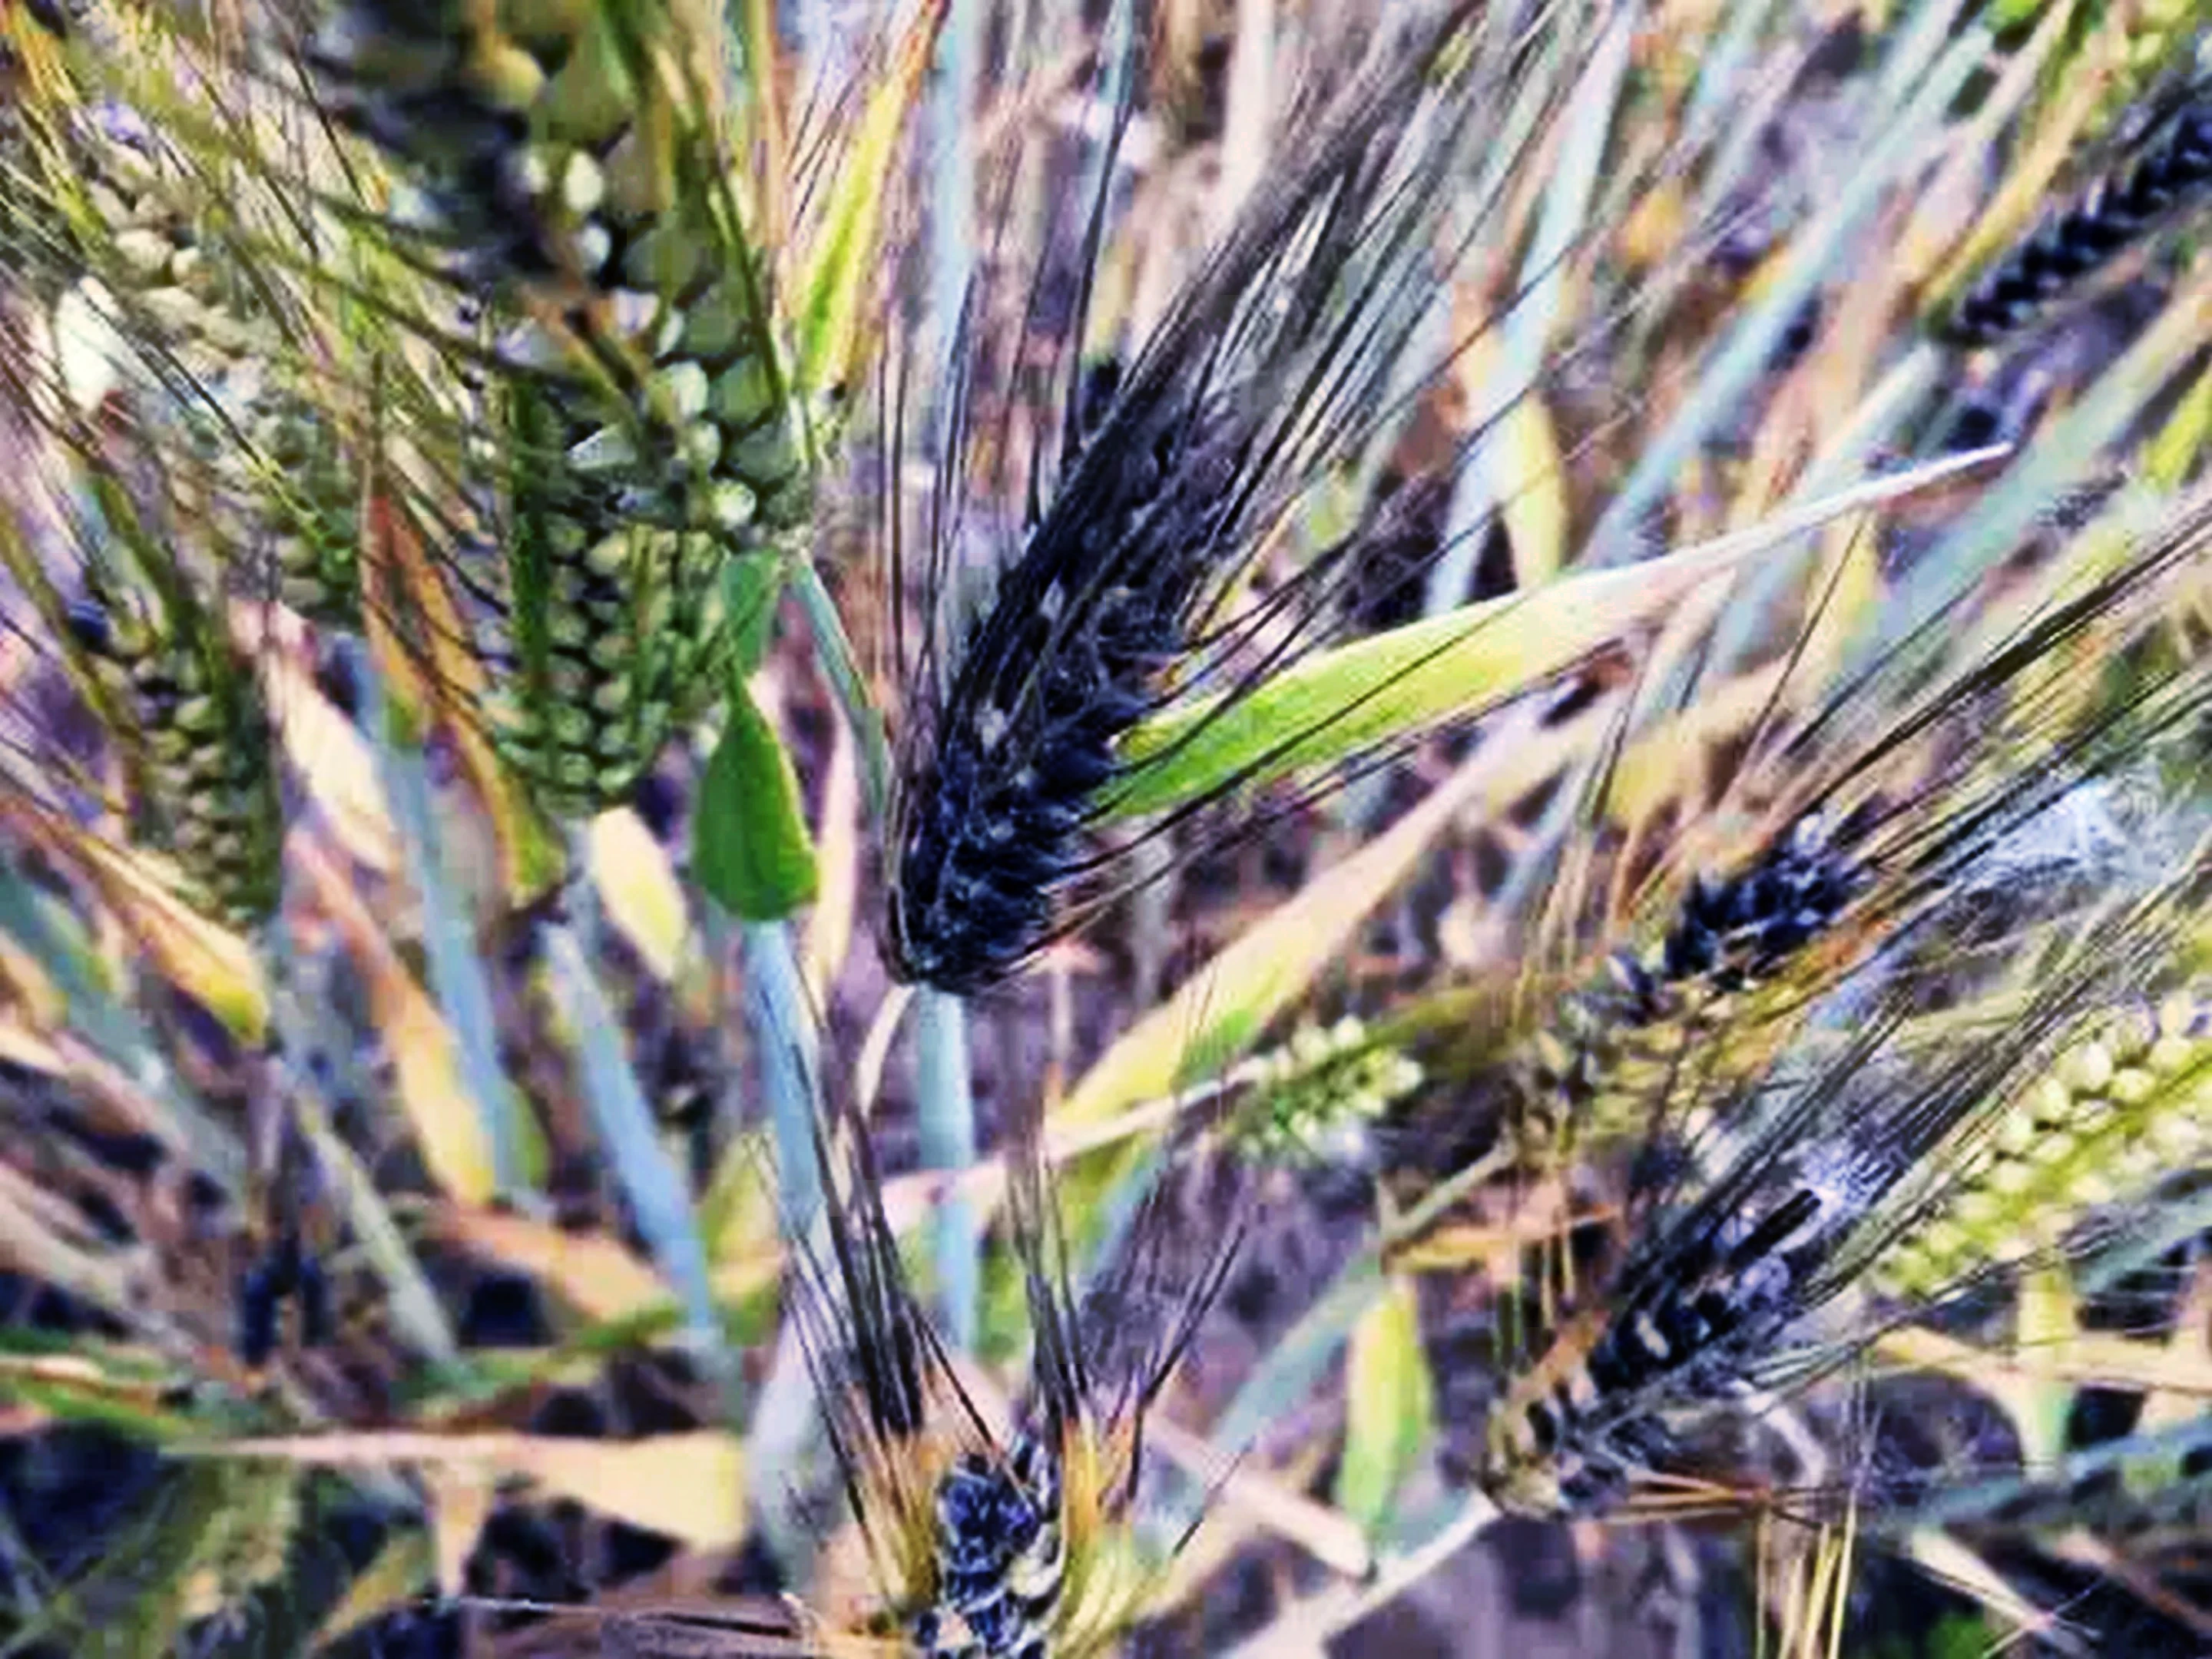Wheat Loose Smut: (864, 274, 1336, 1033)
